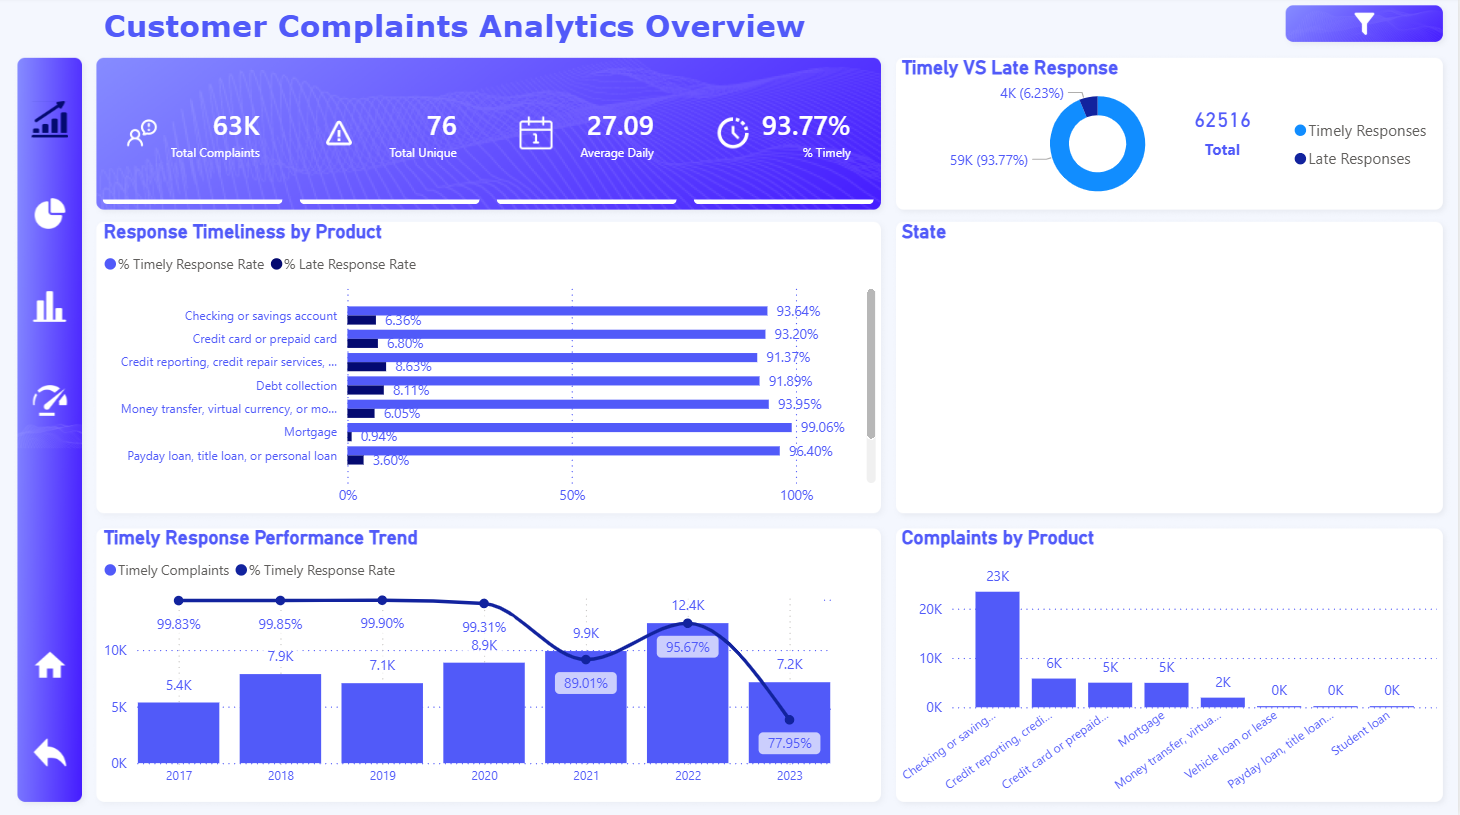

Layout of this report page (visuals, bound fields, positions):
{"tool":"powerbi","page":{"name":"Customer Complaints","canvas":[1280,720],"ordinal":1},"visuals":[{"type":"lineChart","box":[1659.5,906.1,1786,1838.6],"z":0},{"type":"textbox","box":[86,3.5,700.7,48.3],"z":1000},{"type":"clusteredColumnChart","title":"Complaints by Product","fields":{"Category":["Dim Product.Product"],"Y":["Measures (2).Total Complaints"]},"box":[786.8,464.6,480.4,242.2],"z":2000},{"type":"donutChart","title":"Timely VS Late Response","fields":{"Y":["Measures (2).Timely Responses","Measures (2).Late Responses"]},"box":[786.6,51.7,480,135.1],"z":3000},{"type":"image","box":[1130,10.5,137,26.3],"z":4000},{"type":"card","title":"Total ","fields":{"Values":["Measures (2).Total Complaints"]},"box":[1027.1,51.7,92,129.3],"z":5000},{"type":"cardVisual","fields":{"Data":["Measures (2).Total Complaints","Measures (2).Total Unique Issues","Measures (2).Average Daily Complaints","Measures (2).% Timely Response Rate"]},"box":[85.2,51.8,689.3,135.2],"z":6000},{"type":"map","fields":{"Category":["Dim State.State"]},"box":[786.6,195.4,480,259.6],"z":7000},{"type":"clusteredBarChart","title":"Response Timeliness by Product","fields":{"Category":["Dim Product.Product"],"Y":["Measures (2).% Timely Response Rate","Measures (2).% Late Response Rate"]},"box":[86,195.7,687.9,260],"z":8000},{"type":"lineClusteredColumnComboChart","title":"Timely Response Performance Trend","fields":{"Category":["DimDate.Date.Variation.Date Hierarchy.Year","DimDate.Date.Variation.Date Hierarchy.Month"],"Y":["Measures (2).Timely Complaints"],"Y2":["Measures (2).% Timely Response Rate"]},"box":[86,464.6,687.9,237.2],"z":9000},{"type":"actionButton","box":[23.7,69.4,40.4,76.4],"z":11000},{"type":"actionButton","box":[23.7,151.6,40.4,76.4],"z":12000},{"type":"actionButton","box":[23.7,233.9,40.4,76.4],"z":13000},{"type":"actionButton","box":[23.7,316.1,40.4,76.4],"z":14000},{"type":"actionButton","box":[23.7,548.8,40.4,76.4],"z":15000},{"type":"actionButton","box":[23.7,625.2,40.4,76.4],"z":16000}]}

Visuals, with their boxes in screenshot pixels (x1, y1, x2, y2), scaled from the page's 1280x720 canvas onto the 1460x815 screenshot:
textbox: [left=98, top=4, right=897, bottom=59]
"Complaints by Product" clusteredColumnChart: [left=897, top=526, right=1445, bottom=800]
"Timely VS Late Response" donutChart: [left=897, top=59, right=1445, bottom=211]
image: [left=1289, top=12, right=1445, bottom=42]
"Total " card: [left=1172, top=59, right=1276, bottom=205]
cardVisual - Measures (2).Total Complaints x Measures (2).Total Unique Issues: [left=97, top=59, right=883, bottom=212]
map - Dim State.State: [left=897, top=221, right=1445, bottom=515]
"Response Timeliness by Product" clusteredBarChart: [left=98, top=222, right=883, bottom=516]
"Timely Response Performance Trend" lineClusteredColumnComboChart: [left=98, top=526, right=883, bottom=794]
actionButton: [left=27, top=79, right=73, bottom=165]
actionButton: [left=27, top=172, right=73, bottom=258]
actionButton: [left=27, top=265, right=73, bottom=351]
actionButton: [left=27, top=358, right=73, bottom=444]
actionButton: [left=27, top=621, right=73, bottom=708]
actionButton: [left=27, top=708, right=73, bottom=794]
